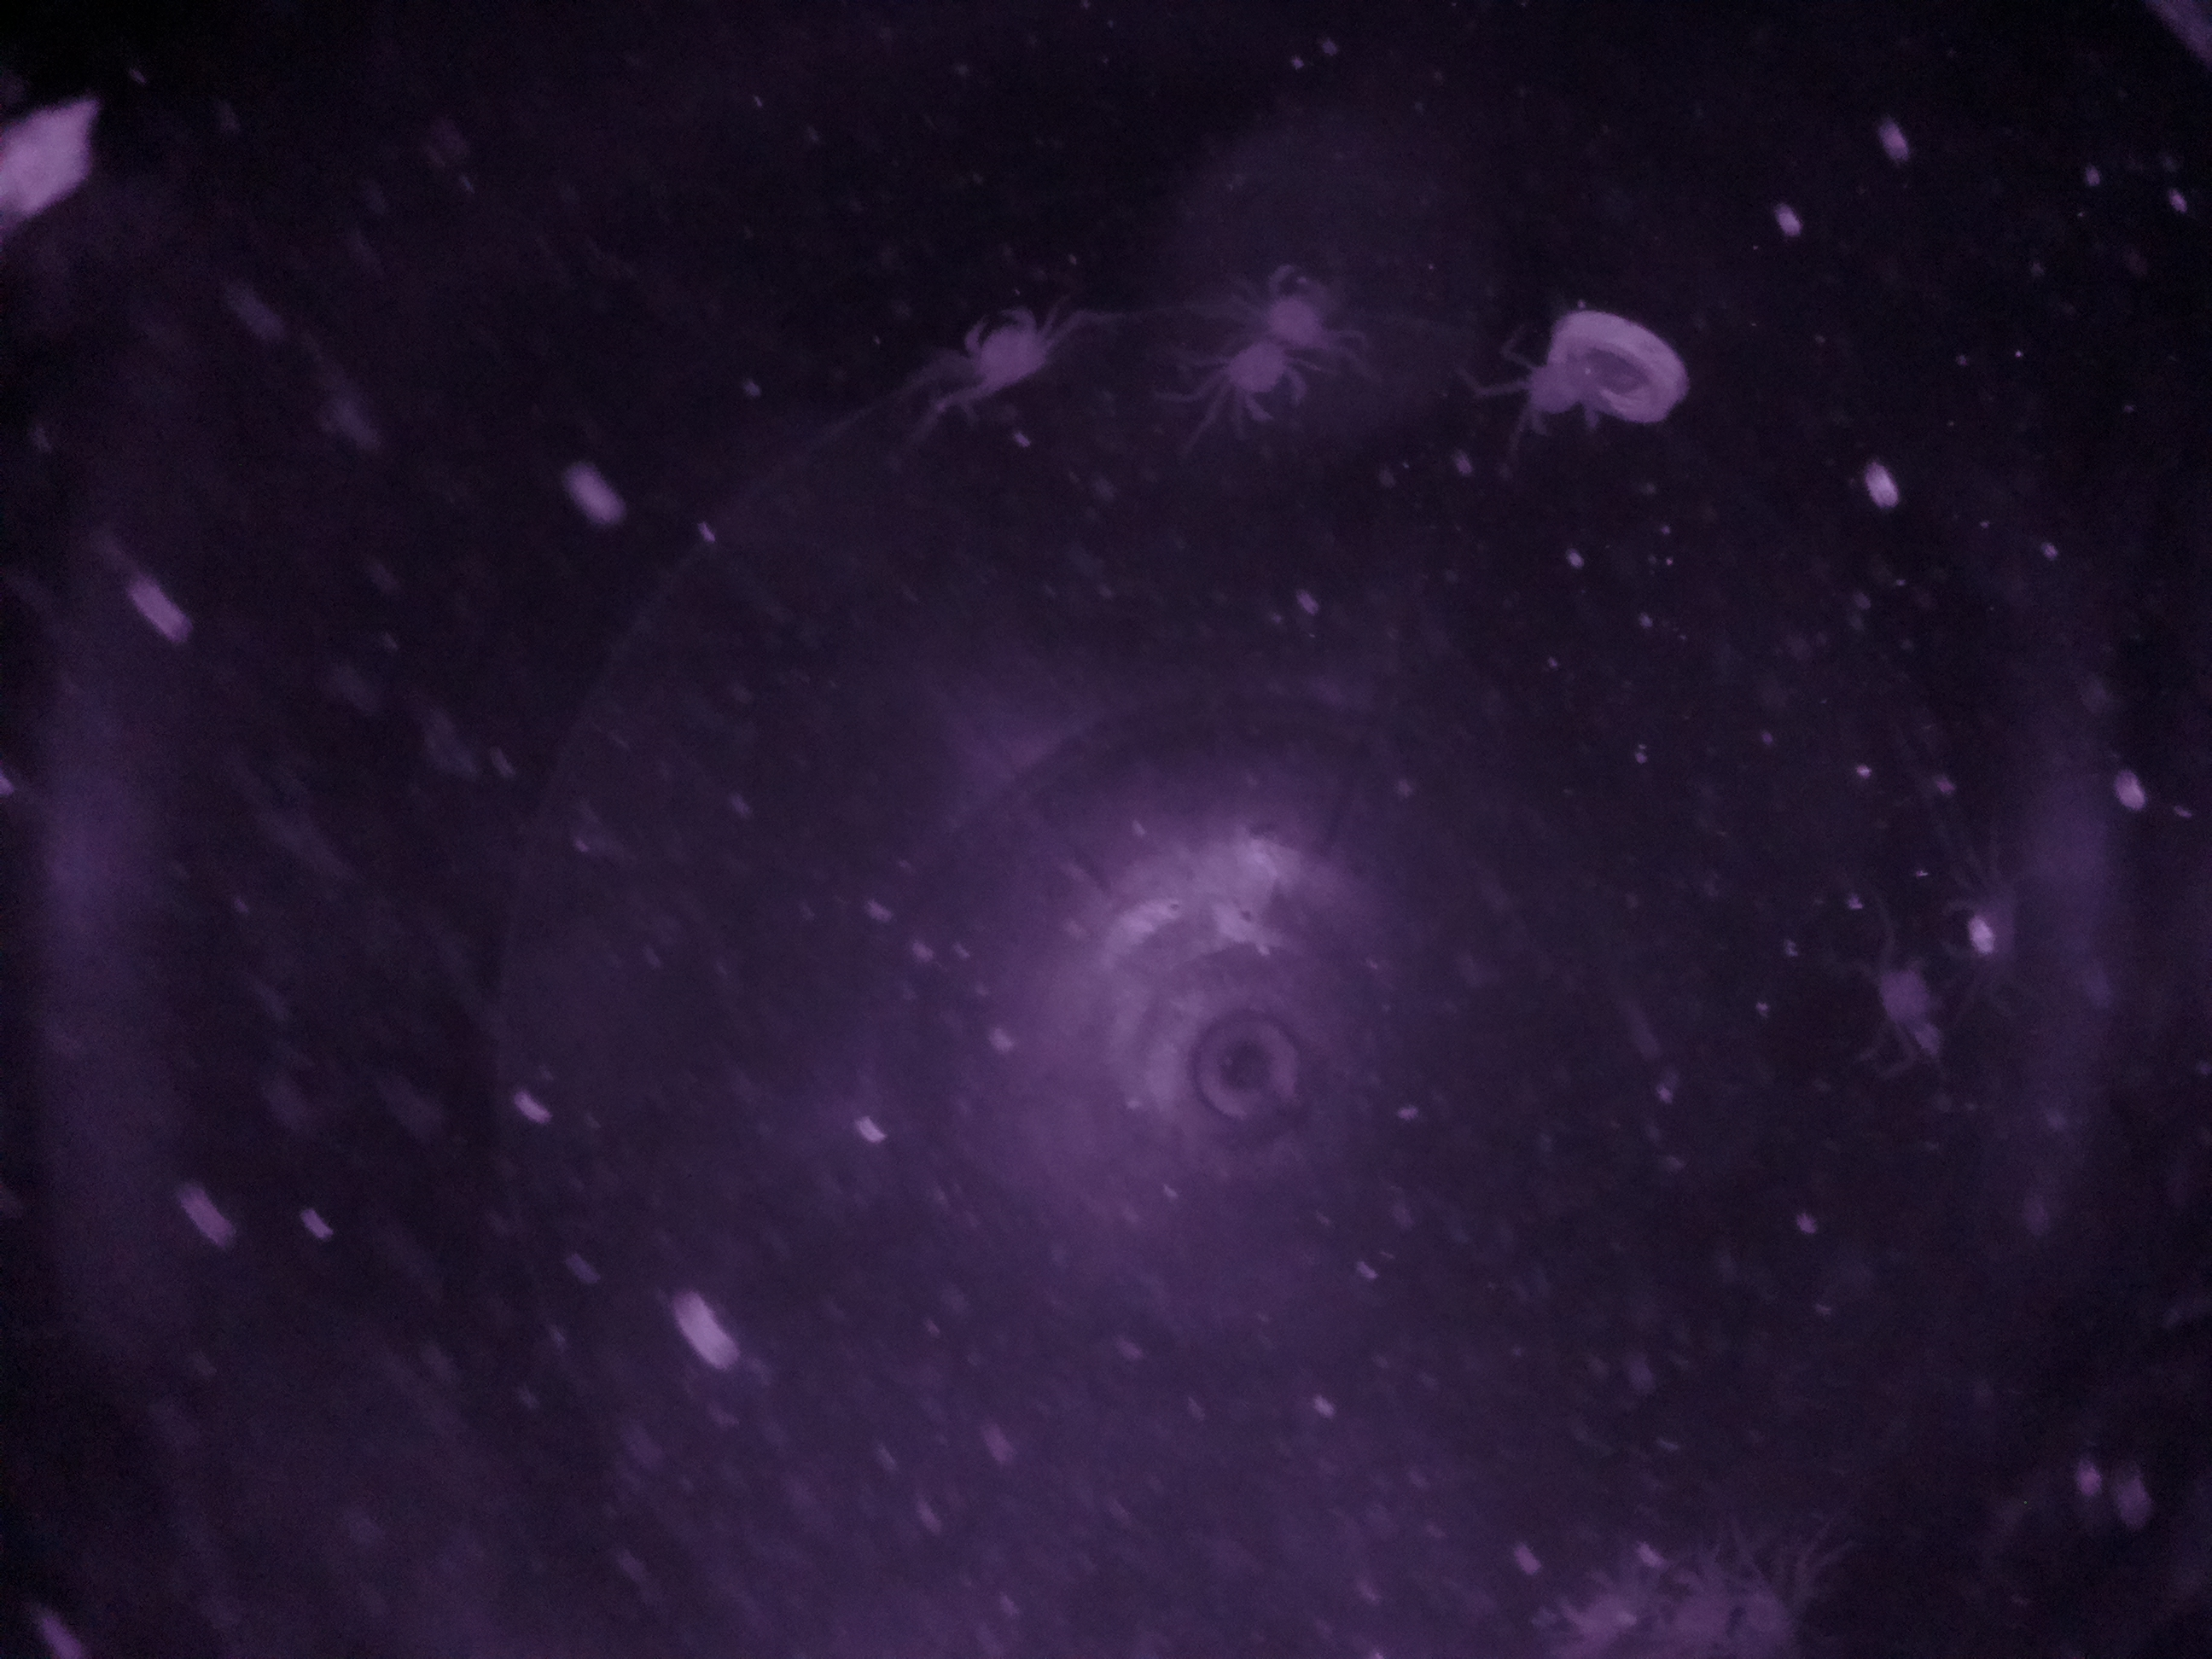Crab: (1200, 317, 1324, 436), (1507, 329, 1623, 455), (948, 286, 1061, 408)
